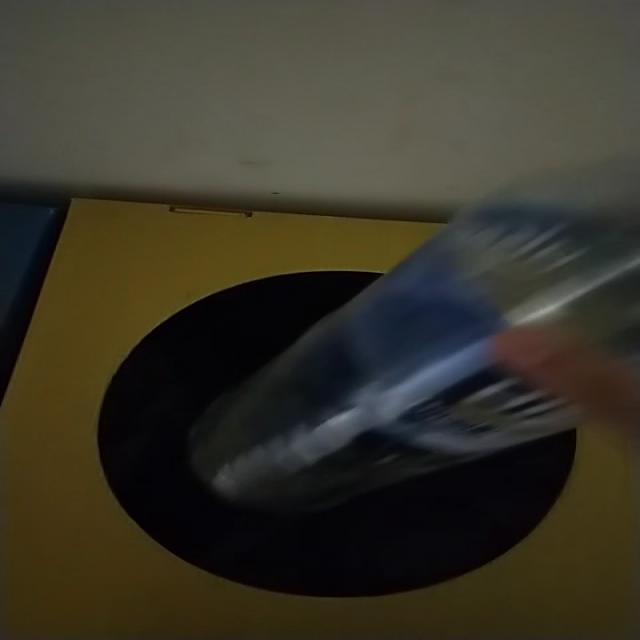plastic: (189, 166, 640, 512)
